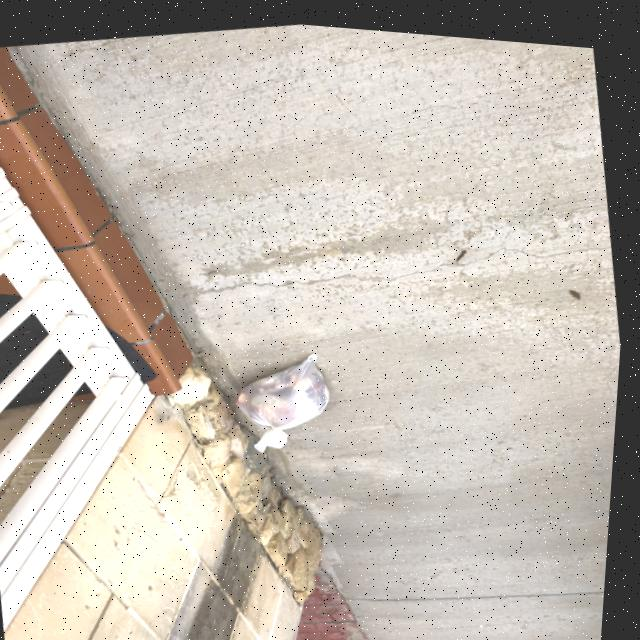Organic Waste -White Bag-: (222, 329, 362, 465)
